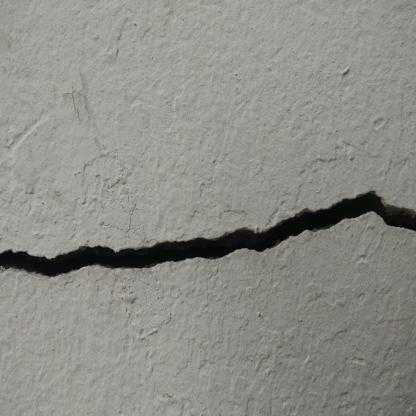crack: (3, 186, 414, 281)
